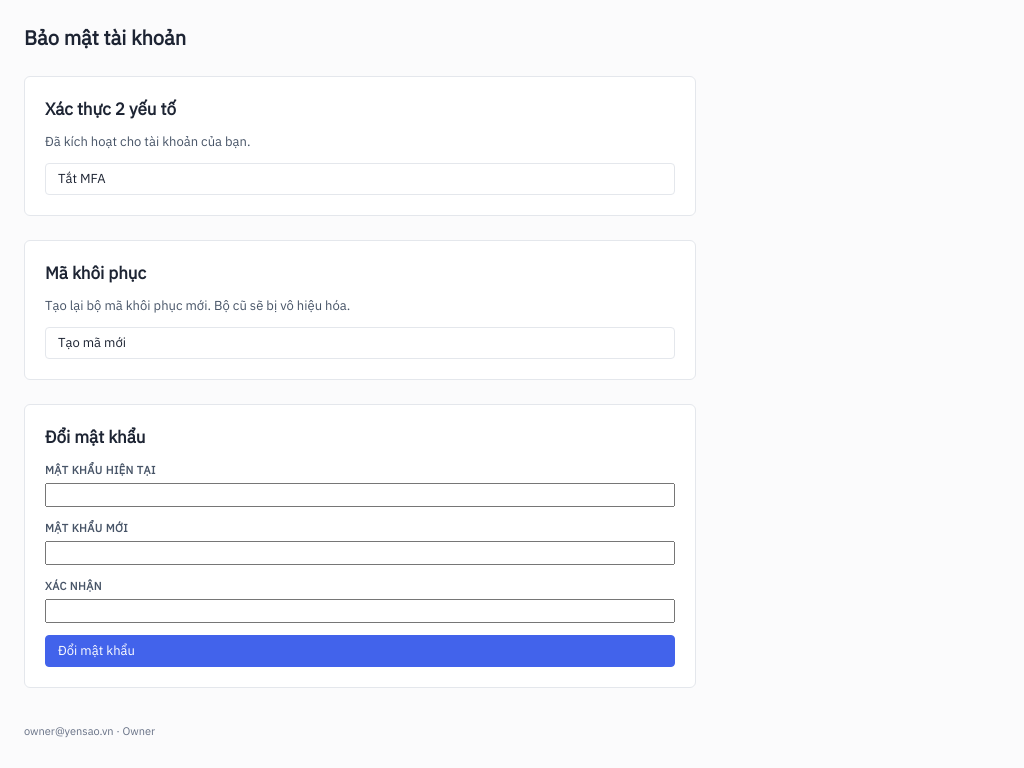
Test case: ProfileSecurityScreen (Sprint-9.5 U6) › Disable MFA opens a confirmation modal requiring password
Click the button "Tắt MFA" at (82, 178), box [45, 163, 675, 195]
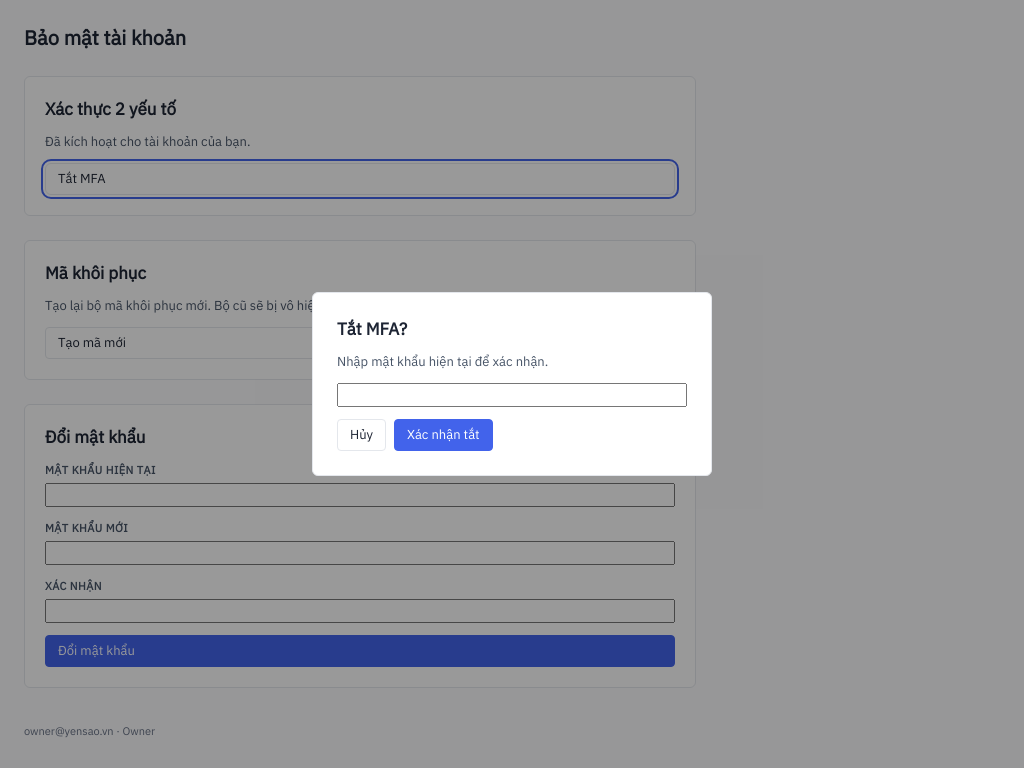
Now the dialog is shown
Now the password field named "Mật khẩu hiện tại" is shown, box [337, 383, 687, 407]
